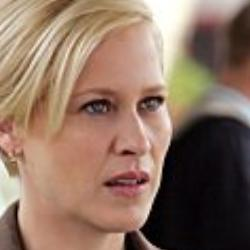face: (2, 1, 181, 237)
